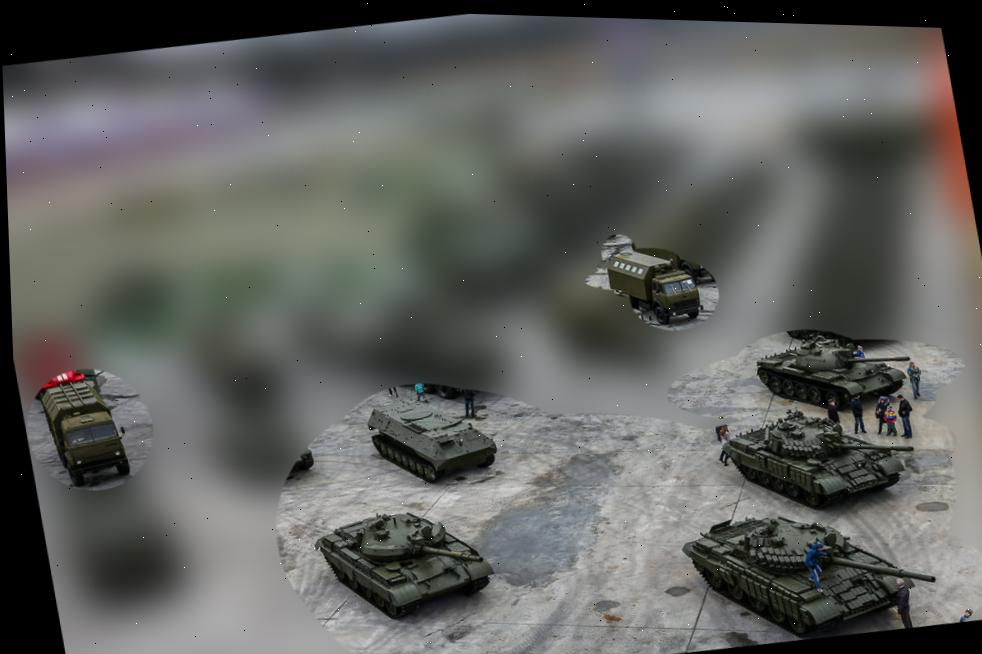armored_car: (358, 390, 505, 497)
tank: (310, 495, 502, 632)
truck: (677, 491, 942, 654), (714, 400, 912, 523), (750, 315, 919, 417), (32, 364, 133, 497), (600, 248, 706, 333)
